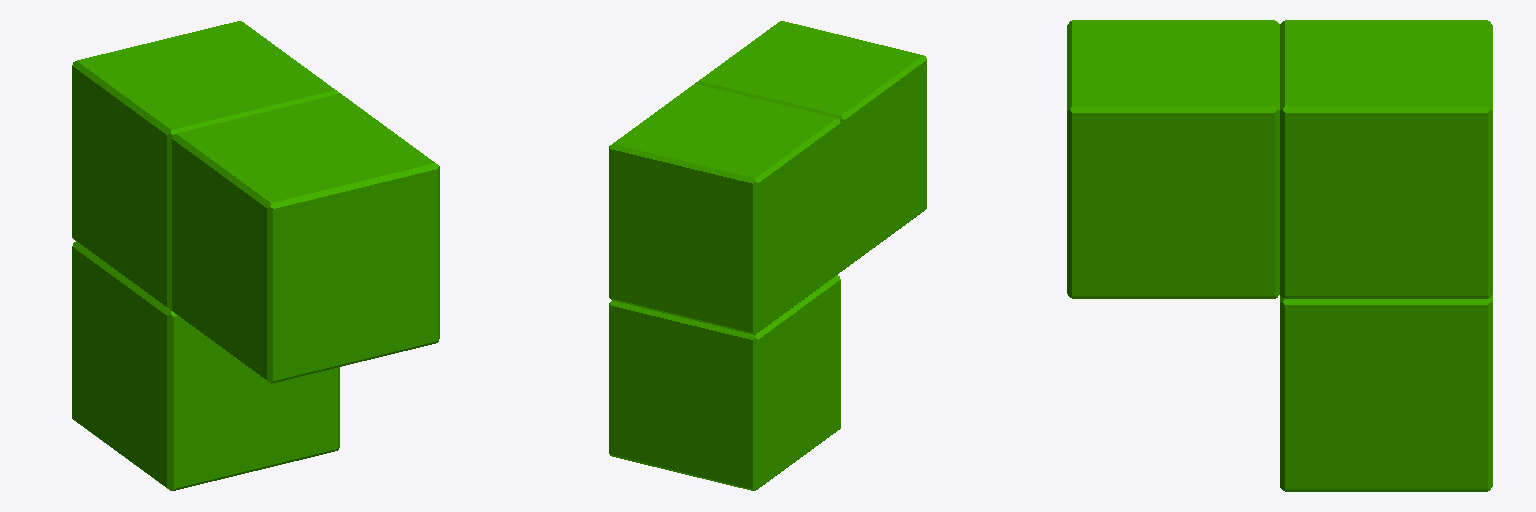
robot.urdf — lightgreen_block:
<?xml version="1.0"?>
<robot name="lightgreen_block">
	<link name="base_link">
		<visual>
			<geometry>
				<mesh filename="package://irsl_sim_environments/urdf/puzzle_blocks/lightgreen_block/lightgreen_block_base_link.dae" />
			</geometry>
		</visual>
		<collision>
			<origin xyz="0.000000000000e+00 0.000000000000e+00 0.000000000000e+00" rpy="0.000000000000e+00 -0.000000000000e+00 0.000000000000e+00" />
			<geometry>
				<box size="3.000000000000e-02 3.000000000000e-02 3.000000000000e-02" />
			</geometry>
		</collision>
		<collision>
			<origin xyz="0.000000000000e+00 0.000000000000e+00 3.000000000000e-02" rpy="0.000000000000e+00 -0.000000000000e+00 0.000000000000e+00" />
			<geometry>
				<box size="3.000000000000e-02 3.000000000000e-02 3.000000000000e-02" />
			</geometry>
		</collision>
		<collision>
			<origin xyz="0.000000000000e+00 -3.000000000000e-02 3.000000000000e-02" rpy="0.000000000000e+00 -0.000000000000e+00 0.000000000000e+00" />
			<geometry>
				<box size="3.000000000000e-02 3.000000000000e-02 3.000000000000e-02" />
			</geometry>
		</collision>
		<inertial>
			<mass value="0.016199999999999999" />
			<origin xyz="0.000000000000e+00 -1.000000000000e-02 2.000000000000e-02" />
			<inertia ixx="8.9099999999999977e-06" ixy="0" ixz="0" iyy="5.6699999999999999e-06" iyz="1.6199999999999993e-06" izz="5.6699999999999991e-06" />
		</inertial>
	</link>
</robot>

--- Render facts (derived) ---
Views: 3 orthographic renders of the robot side by side, from view 1: azimuth 30°, elevation 25°; view 2: azimuth 150°, elevation 25°; view 3: azimuth 270°, elevation 25°.
Robot: lightgreen_block — 1 links, 0 joints (none); root link base_link; default pose: all joints at 0.
Visible links, largest first — view 1: base_link; view 2: base_link; view 3: base_link.
Boxes of the visible links, <box> form: base_link: <box>72,21,439,490</box>; base_link: <box>609,21,926,490</box>; base_link: <box>1067,20,1492,491</box>.
Bounding box of the posed robot: 0.03 × 0.06 × 0.06 m (x, y, z).
Meshes: 1 distinct files referenced, 1 mesh visuals loaded (1 Collada DAE).